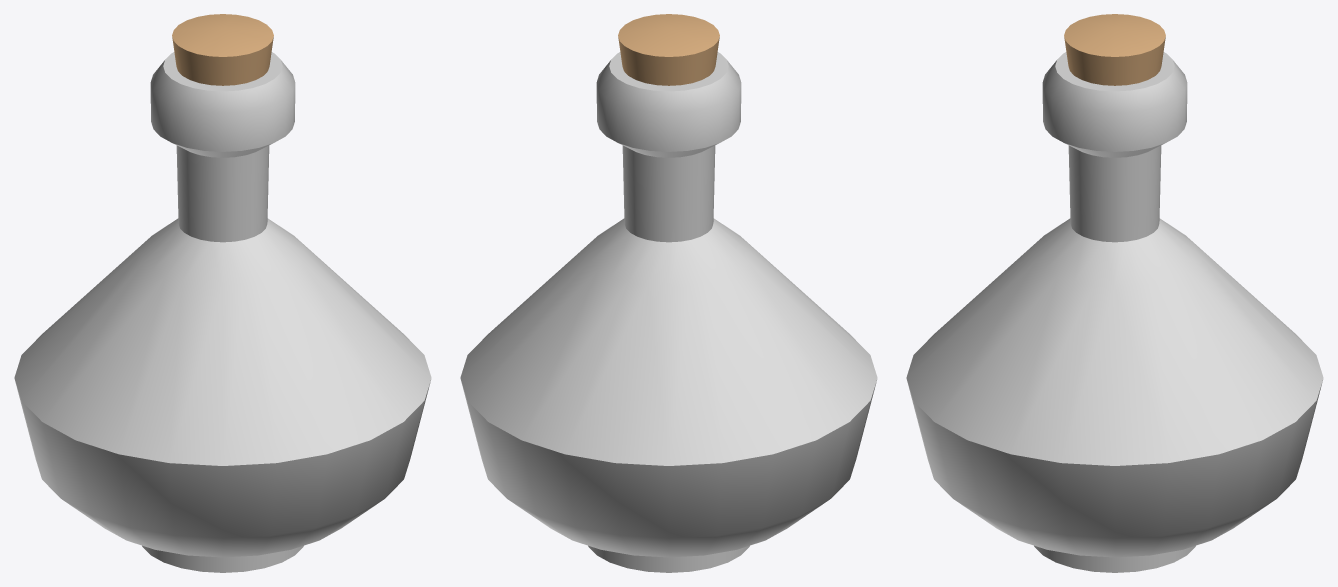
The model's file is kaykit-potionmedium-blue.glb.
3 views of the same model, side by side, from view 1: azimuth 30°, elevation 25°; view 2: azimuth 150°, elevation 25°; view 3: azimuth 270°, elevation 25° (orthographic).
Visible parts, largest first — view 1: potionMedium_blue; view 2: potionMedium_blue; view 3: potionMedium_blue.
Boxes of the visible parts, left/top/right/bottom form: potionMedium_blue: left=14, top=14, right=431, bottom=572; potionMedium_blue: left=460, top=14, right=877, bottom=572; potionMedium_blue: left=906, top=14, right=1323, bottom=572.
Bounding box in the file's own units: 0.7978 × 1.08 × 0.7978.
